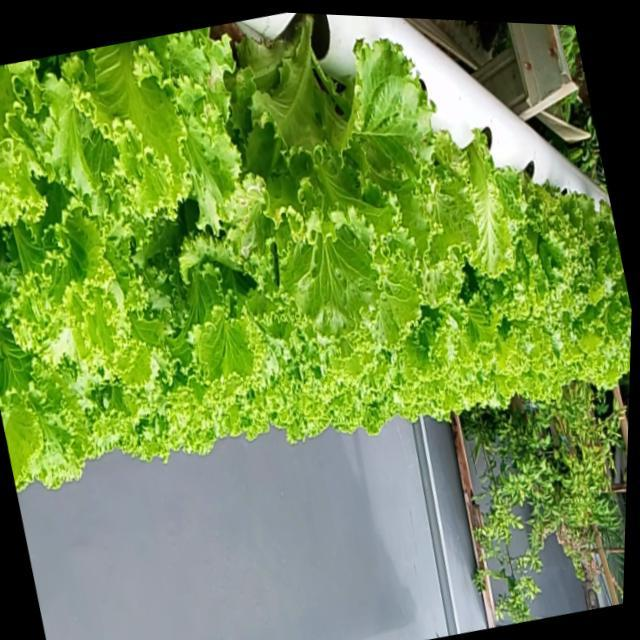Mature: (0, 13, 632, 491), (207, 13, 456, 338), (469, 162, 588, 324)
